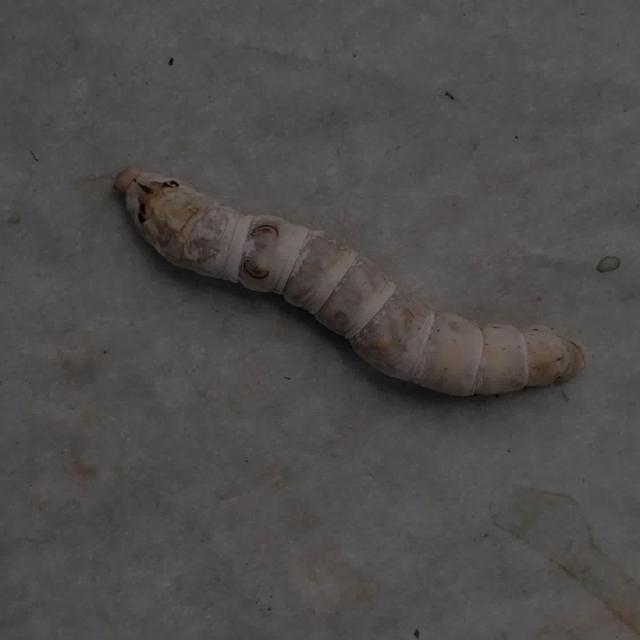Grasserie: (97, 135, 592, 447)
